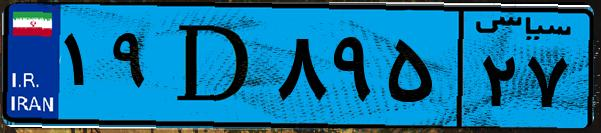1: (57, 26, 110, 100)
2: (475, 38, 525, 113)
5: (385, 28, 445, 110)
7: (525, 38, 570, 115)
8: (270, 28, 330, 110)
9: (330, 28, 385, 110), (110, 28, 158, 98)
D: (158, 12, 270, 120)
